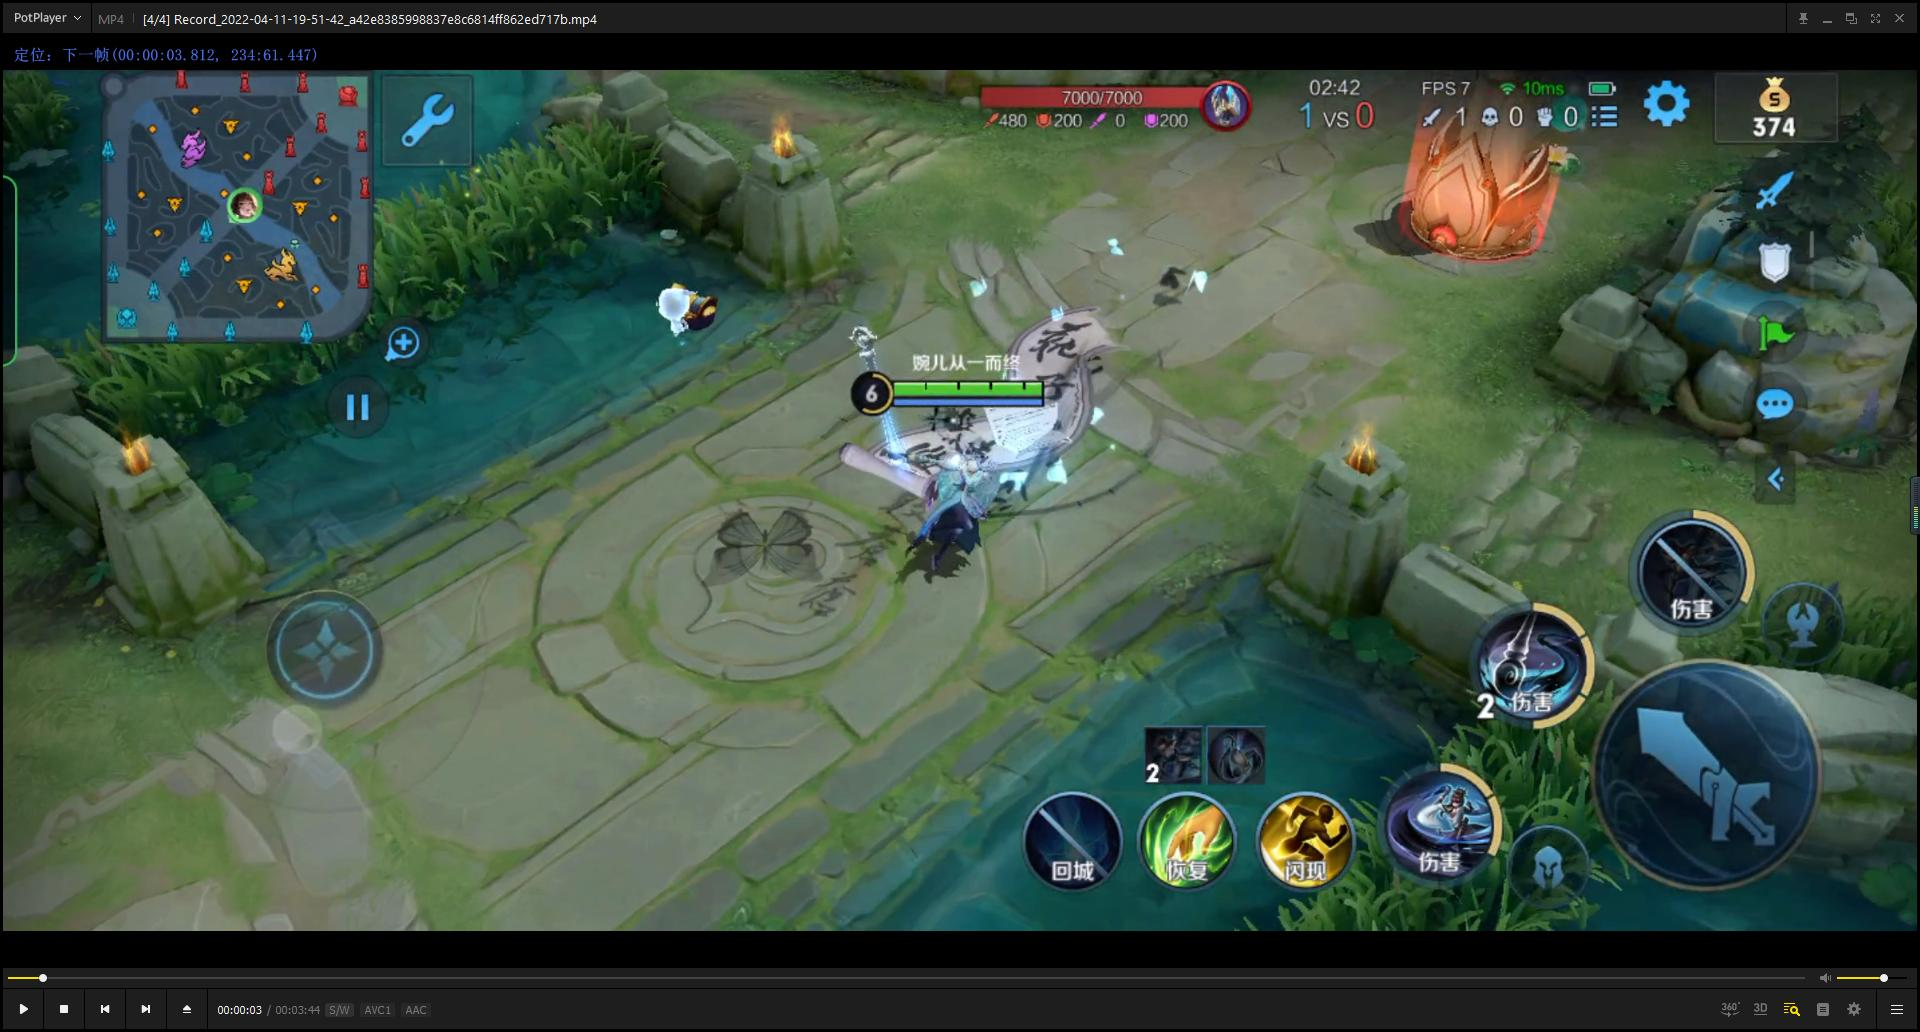Hero: (845, 418, 1133, 627)
Spirit: (612, 264, 745, 357)
Tower: (1362, 70, 1576, 280)
